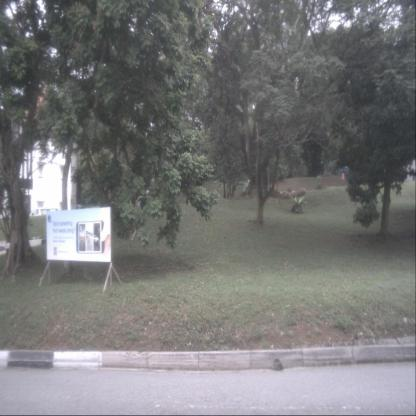vehicle-car: (27, 208, 60, 226)
